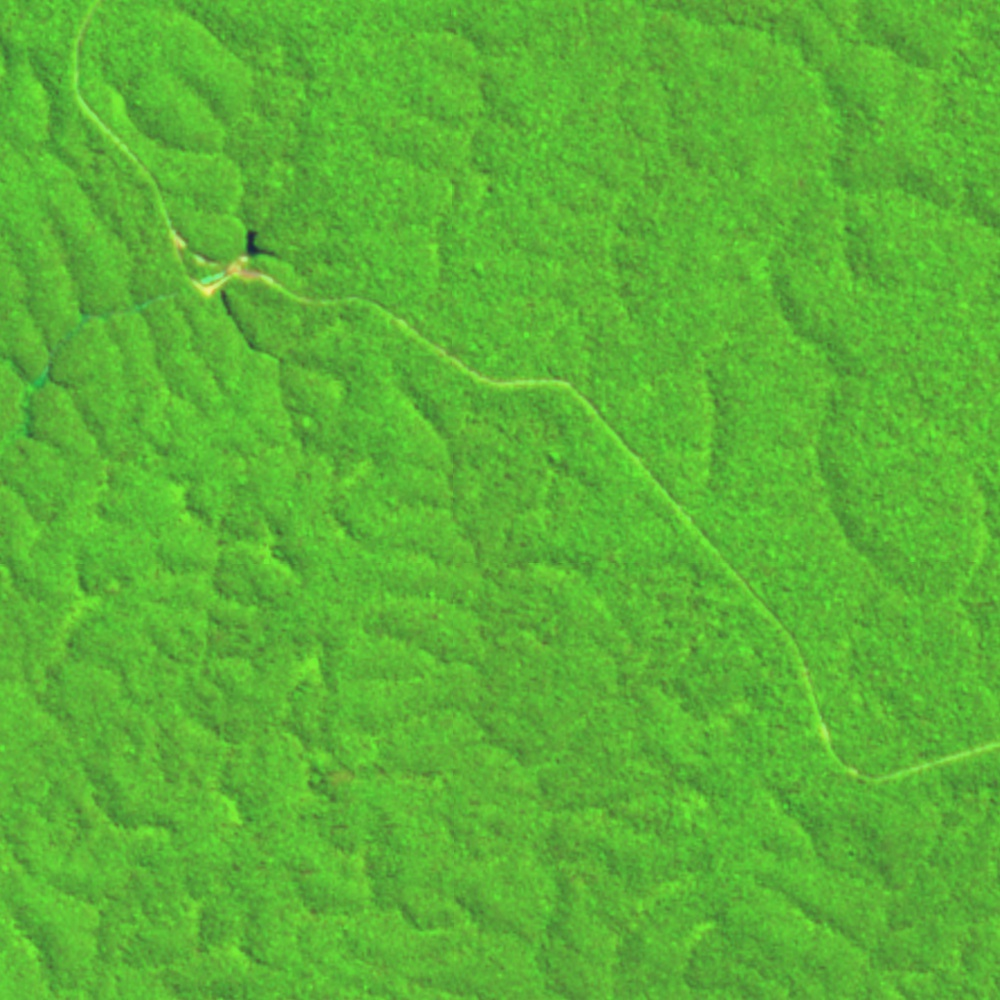legal: (1, 313, 87, 448), (166, 225, 293, 303)
